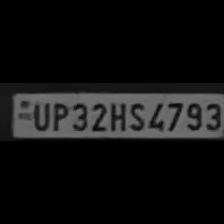2: (88, 100, 108, 132)
3: (68, 100, 88, 132), (202, 100, 222, 132)
4: (146, 99, 166, 130)
7: (163, 99, 181, 131)
9: (182, 99, 202, 130)
H: (108, 100, 126, 132)
P: (50, 100, 68, 132)
S: (125, 100, 144, 132)
U: (30, 99, 50, 130)
